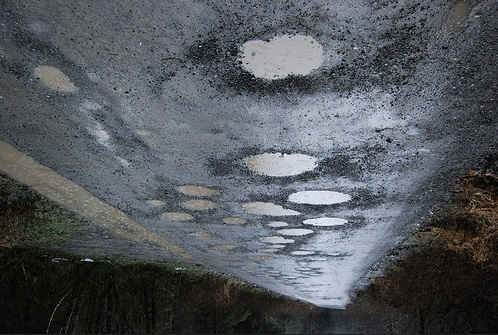pothole: (233, 25, 335, 91), (236, 149, 330, 182), (21, 62, 76, 97), (239, 197, 297, 219), (287, 190, 350, 206), (302, 215, 353, 228), (175, 183, 216, 198), (219, 215, 255, 229), (178, 199, 218, 210), (275, 228, 316, 238), (191, 228, 219, 242), (260, 234, 298, 243), (264, 217, 289, 230), (156, 213, 195, 221), (288, 248, 317, 258), (141, 198, 169, 208), (250, 254, 276, 264), (288, 266, 319, 272), (309, 257, 331, 265), (226, 257, 245, 265), (213, 243, 237, 249), (267, 269, 279, 277), (268, 243, 286, 248), (325, 252, 350, 255), (299, 271, 319, 274)
